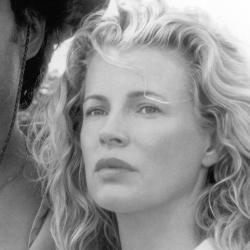face: (30, 3, 247, 239)
